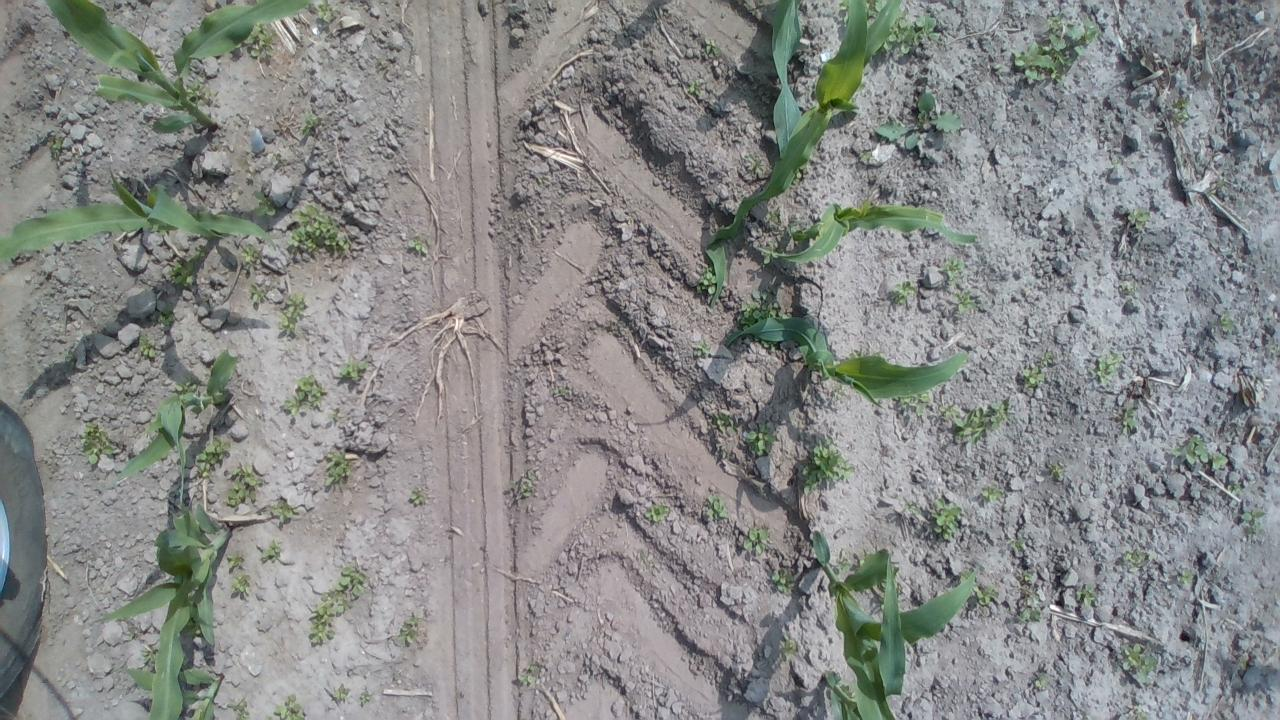Maize: (705, 0, 905, 304), (44, 0, 308, 134), (808, 529, 979, 720), (98, 500, 232, 720), (0, 164, 282, 252), (727, 318, 971, 410), (103, 350, 240, 506), (755, 199, 977, 264), (127, 655, 220, 720), (770, 0, 806, 154), (818, 669, 861, 720)
Weeds: (1014, 12, 1100, 84), (876, 92, 960, 149), (940, 399, 1014, 443), (288, 205, 350, 252), (802, 439, 854, 492), (881, 10, 940, 52), (738, 286, 788, 330), (308, 591, 347, 644), (286, 374, 324, 416), (226, 464, 262, 507), (196, 436, 230, 478), (81, 422, 115, 464), (1122, 643, 1156, 684), (932, 498, 962, 541), (242, 22, 278, 57), (278, 292, 308, 334), (1094, 350, 1124, 386), (324, 452, 354, 486), (336, 566, 365, 598), (746, 426, 776, 454), (939, 255, 965, 286), (275, 694, 305, 720), (901, 390, 930, 416), (170, 258, 196, 286), (1184, 436, 1209, 464), (1124, 549, 1154, 572), (339, 356, 367, 380), (187, 78, 212, 104), (742, 528, 767, 554), (696, 266, 717, 296), (1021, 592, 1042, 622), (510, 474, 535, 499), (272, 500, 298, 524), (952, 290, 978, 314), (972, 581, 998, 605), (1242, 508, 1266, 534), (253, 190, 276, 217), (174, 372, 198, 396), (772, 568, 794, 594), (397, 618, 419, 644), (891, 282, 916, 304), (300, 112, 320, 138), (316, 0, 338, 22), (716, 413, 738, 435), (231, 572, 251, 596), (706, 494, 726, 518), (1076, 582, 1096, 606), (1022, 365, 1044, 386), (1127, 208, 1150, 228), (780, 632, 796, 660), (228, 699, 249, 720), (248, 282, 268, 304), (761, 241, 780, 264), (1171, 98, 1190, 121), (1122, 403, 1136, 434), (139, 333, 157, 357), (518, 664, 539, 684), (644, 506, 670, 522), (158, 304, 176, 326), (864, 0, 886, 18), (180, 618, 202, 636), (262, 540, 280, 562), (754, 336, 778, 352), (982, 484, 1003, 502), (409, 235, 428, 254), (702, 38, 722, 56), (838, 549, 852, 574), (226, 550, 244, 569), (747, 154, 765, 173), (47, 134, 62, 156), (241, 244, 258, 263), (792, 164, 808, 184), (1212, 450, 1228, 470), (409, 487, 426, 505), (1178, 570, 1195, 587), (141, 648, 158, 665), (832, 384, 848, 402), (840, 0, 851, 25), (959, 570, 976, 586), (1220, 312, 1234, 331), (686, 78, 700, 96), (1048, 461, 1062, 479), (696, 340, 710, 356), (765, 208, 781, 222), (859, 548, 872, 565), (64, 348, 76, 366), (192, 244, 206, 259), (1010, 538, 1027, 550), (1034, 674, 1048, 688), (904, 502, 920, 514), (1122, 279, 1136, 292), (334, 688, 349, 700), (858, 150, 872, 162), (1040, 352, 1052, 366), (360, 690, 370, 706), (1228, 483, 1242, 494), (1020, 572, 1034, 582), (1171, 446, 1182, 458), (1136, 707, 1146, 720), (878, 593, 885, 610), (880, 578, 888, 592), (872, 350, 886, 358), (1110, 160, 1122, 169), (849, 351, 864, 358), (1216, 179, 1226, 188), (554, 388, 566, 394), (274, 154, 282, 162), (328, 414, 338, 420), (129, 632, 136, 640)
